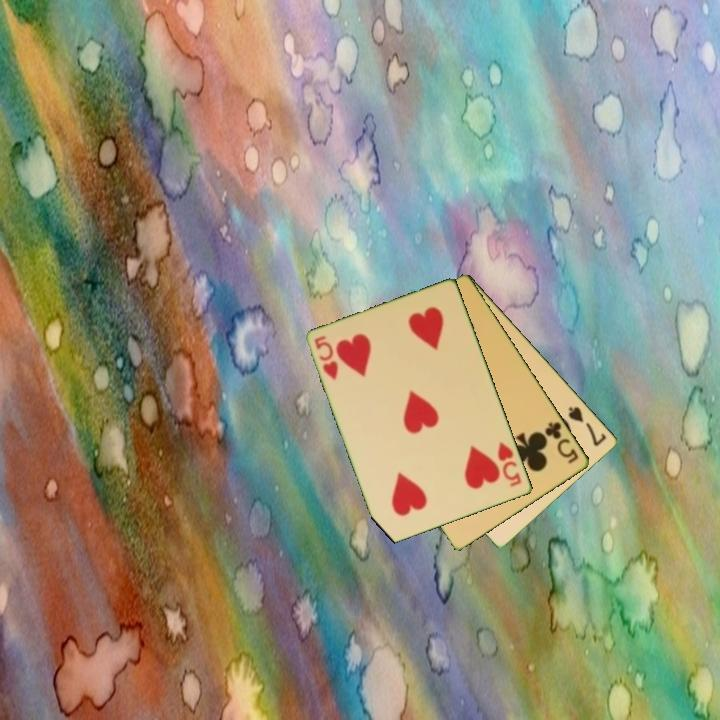5c: (542, 418, 582, 467)
5h: (494, 439, 525, 490), (311, 332, 342, 383)
7s: (565, 403, 610, 449)
